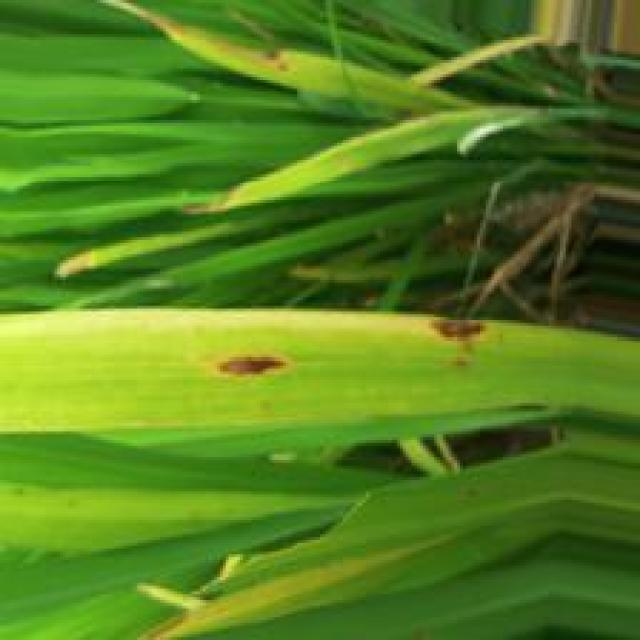Narrow_Brown_Leaf_Spot: (208, 348, 294, 380), (418, 316, 492, 344), (453, 353, 471, 370)
